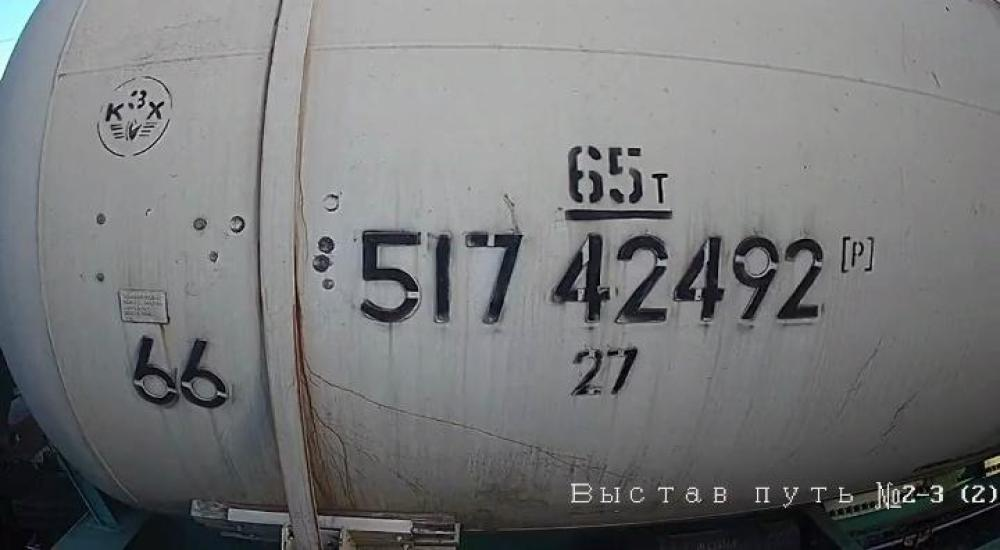Wagon-number: (349, 221, 835, 332)
